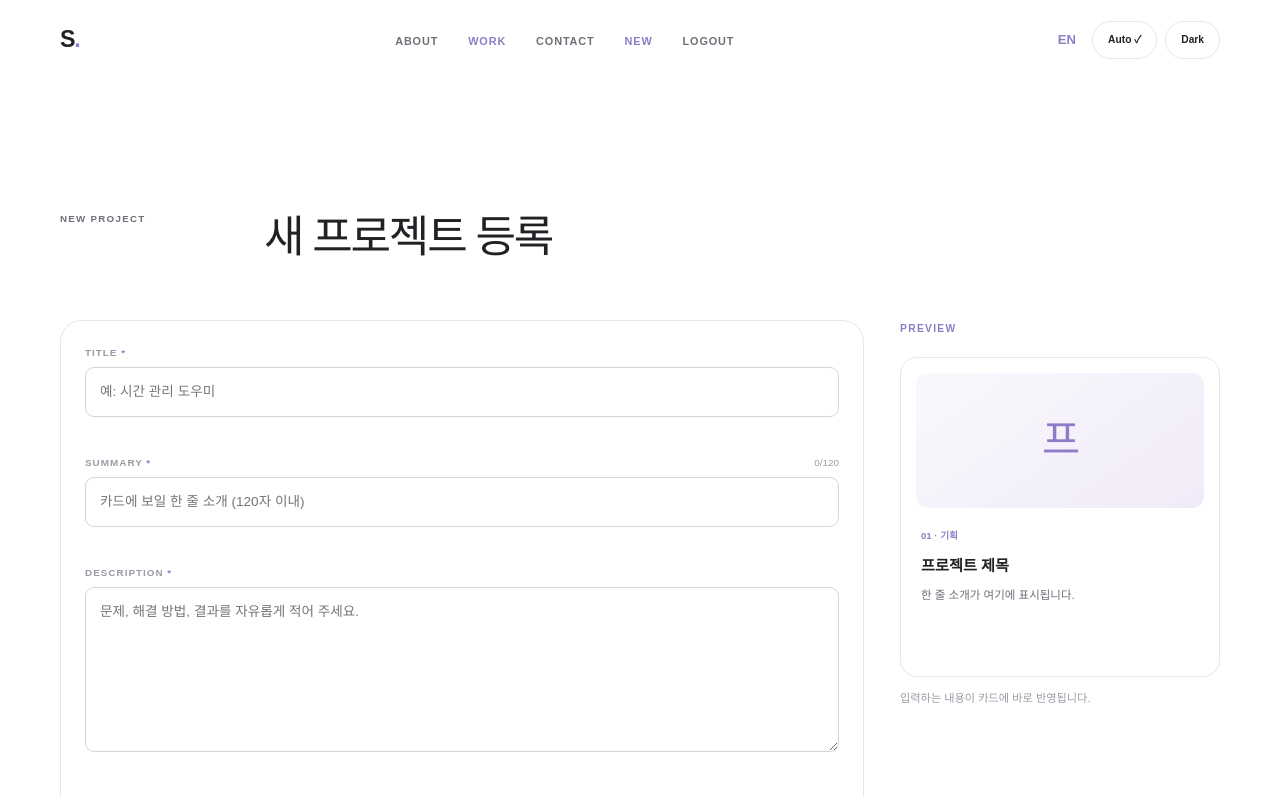
Scenario: 등록 화면 (/projects/new) › 입력하면 미리보기 카드와 글자 수가 바로 바뀐다
Check: the heading "프로젝트 제목" is shown, box [921,557,1009,574]
Type "학습 기록 앱" into the field labelled "TITLE *".
click(462, 392); type("학습 기록 앱")  # box [85,368,839,417]
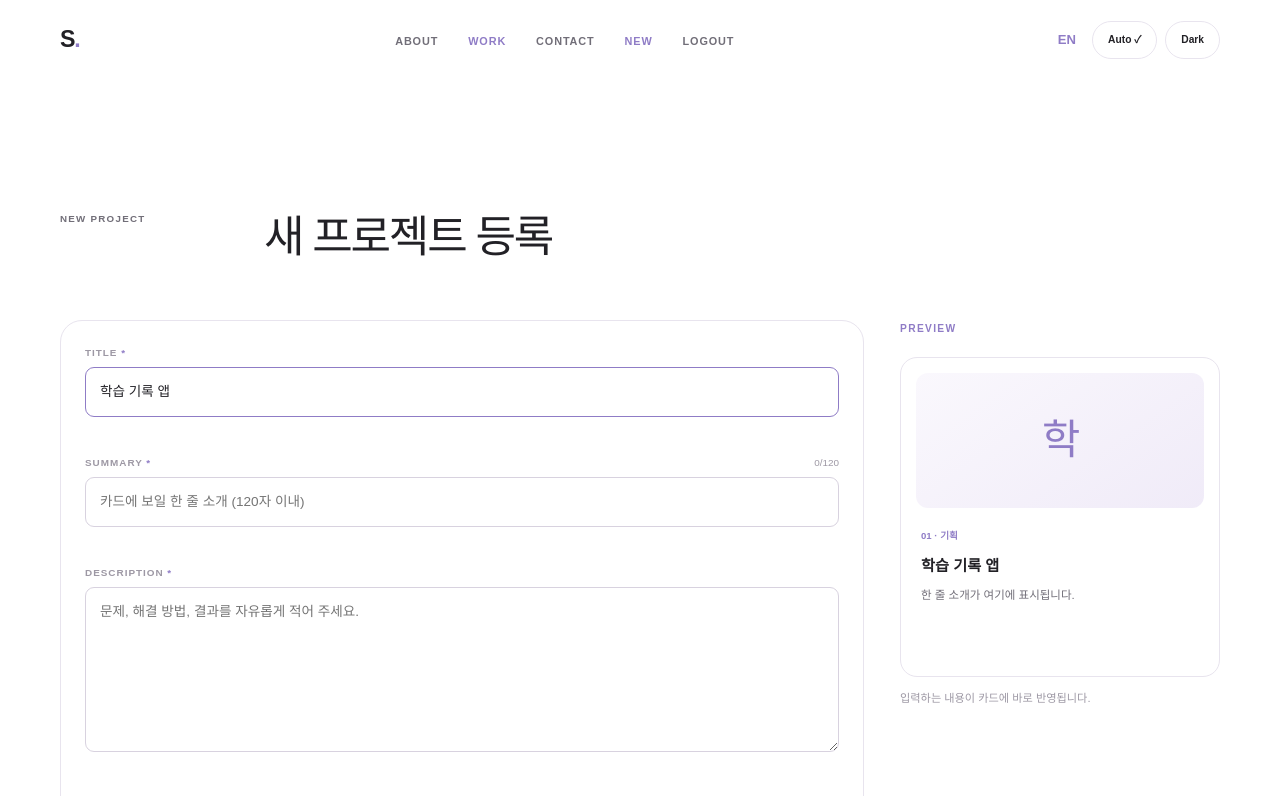
Type "매일 배운 것을 기록" into the field labelled "SUMMARY *".
click(462, 502); type("매일 배운 것을 기록")  # box [85,477,839,526]
(page scrolled)
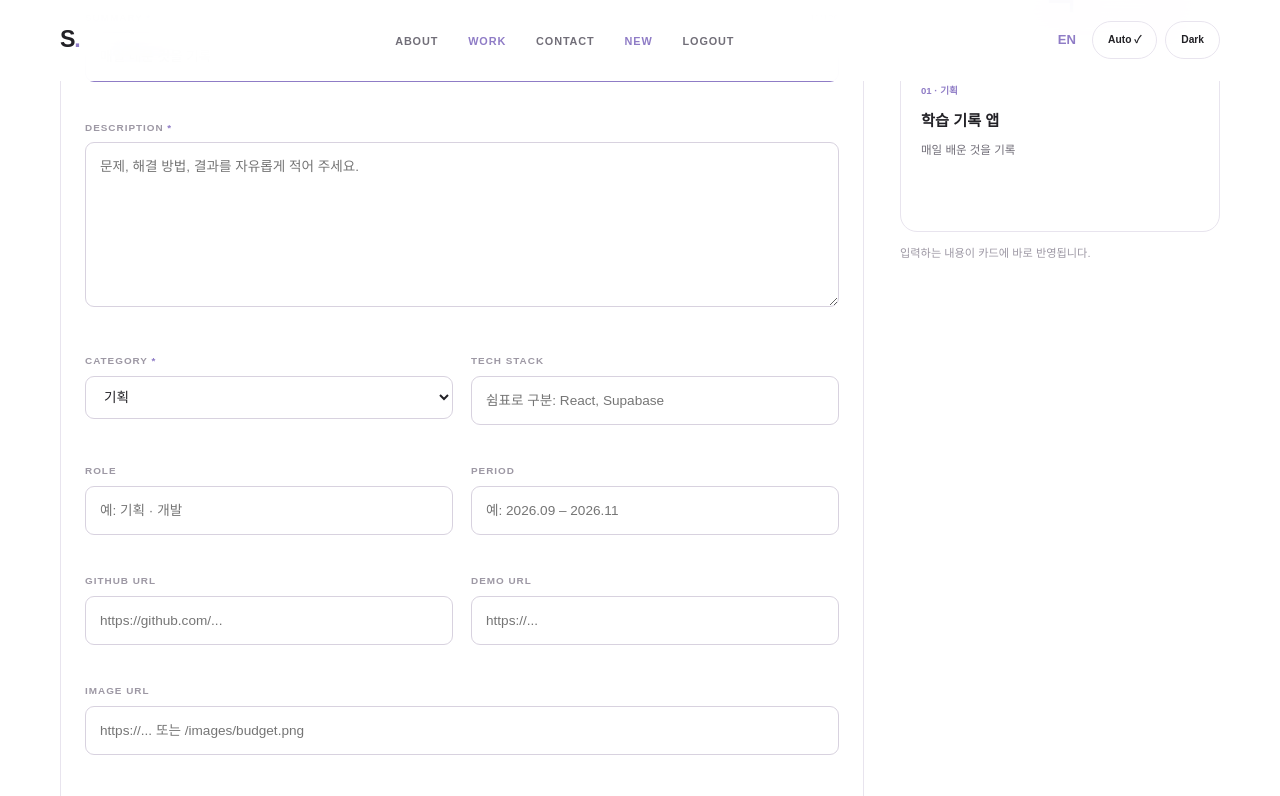
Type "React, Vite" into the field labelled "TECH STACK".
click(655, 401); type("React, Vite")  # box [471,376,839,425]
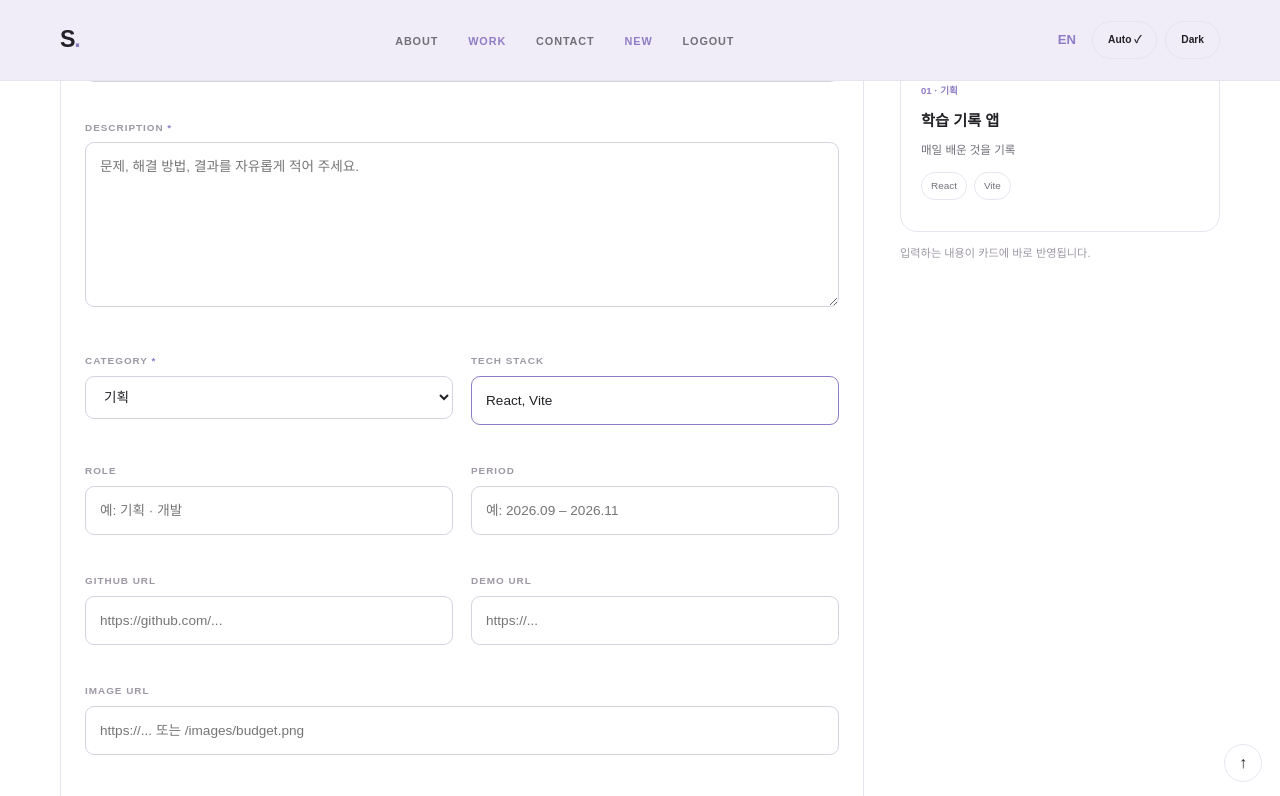
Check: the heading "학습 기록 앱" is shown, box [921,112,999,129]
Check: the text "매일 배운 것을 기록" is shown, box [921,144,1015,156]
Check: the list items read "React", "Vite", in this order, box [921,172,967,200]; [974,172,1011,200]
